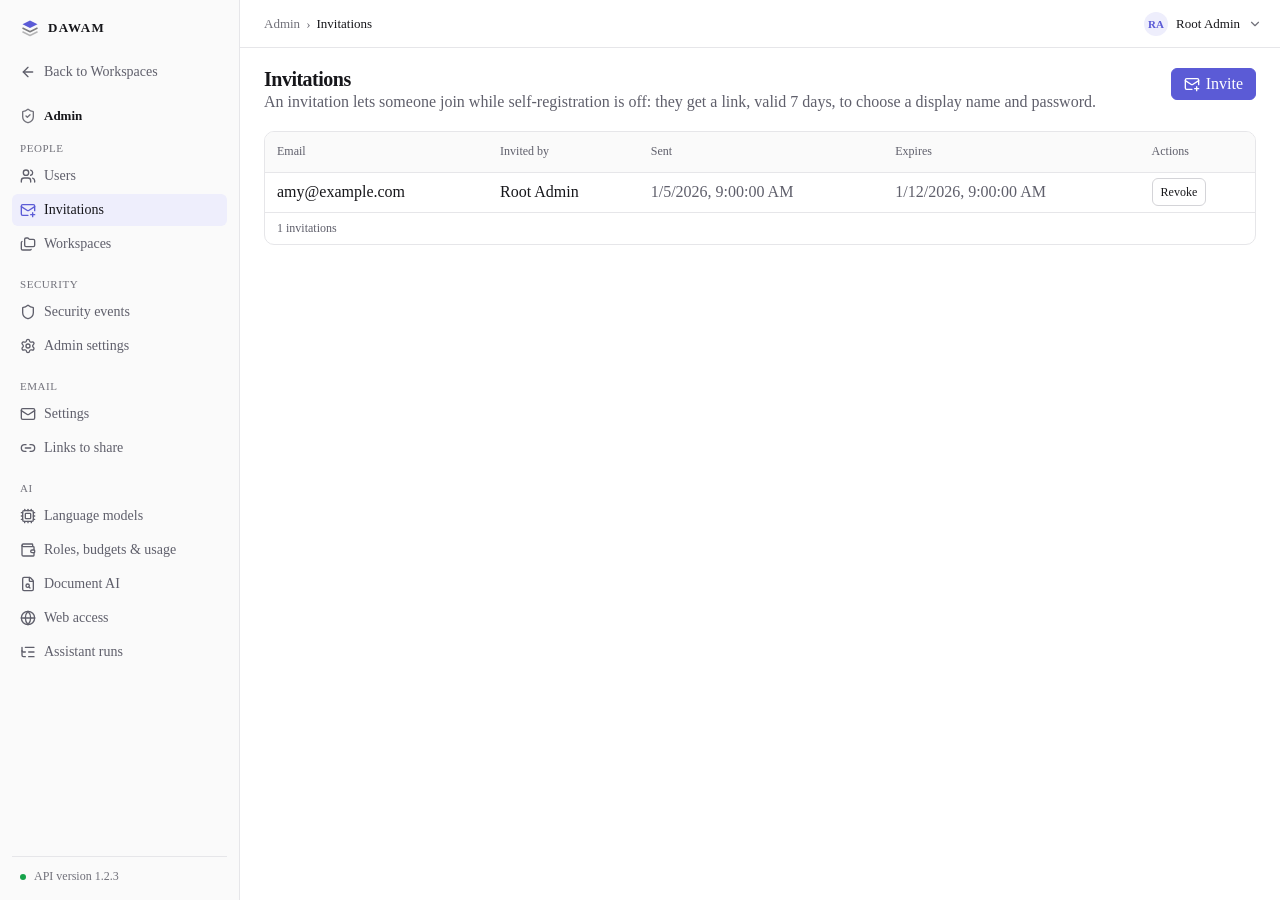
Scenario: revoking an invitation › revokes it and drops it from the list
Click the button "Revoke" at (1179, 192), box [1152,178,1206,206]
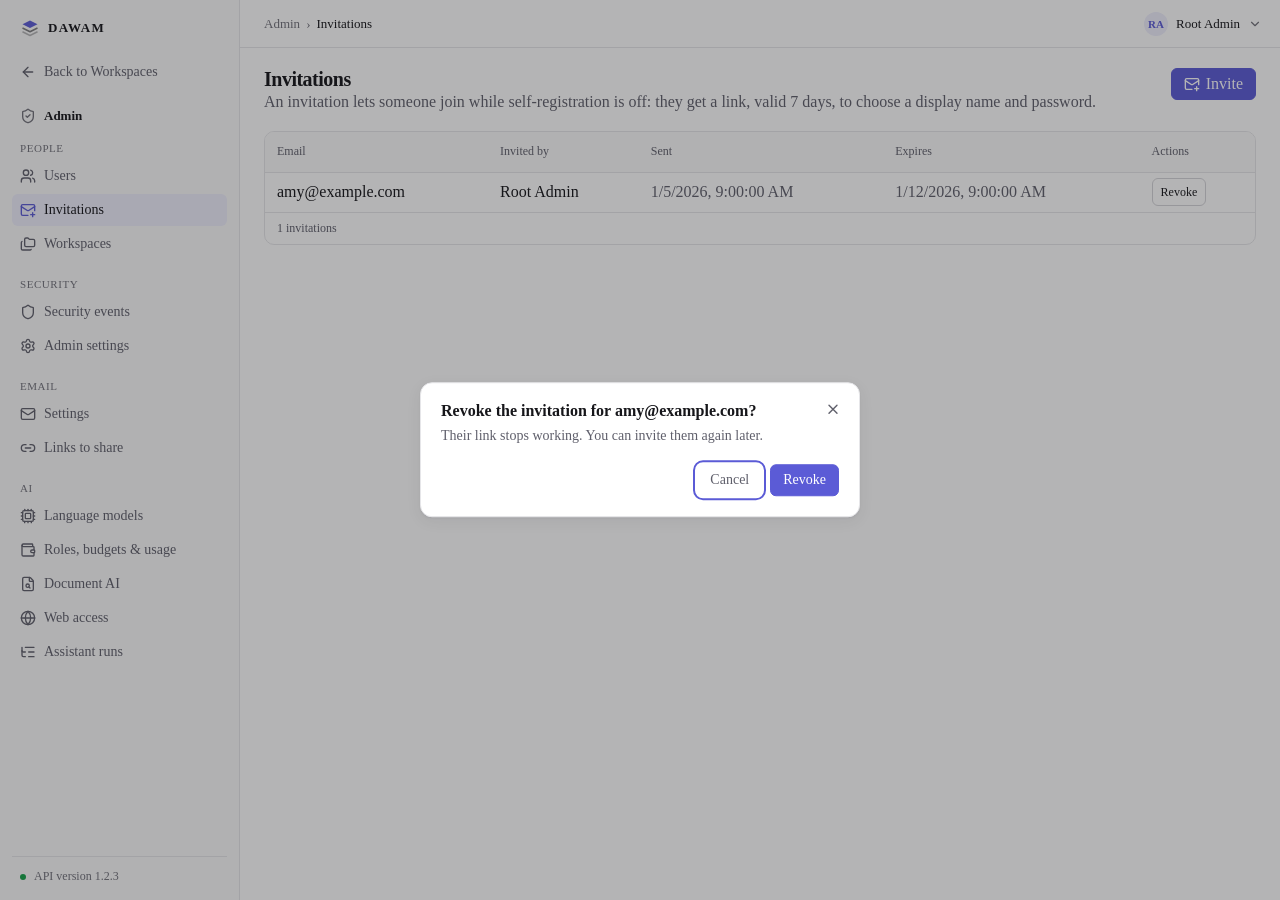
Click the button "Revoke" at (805, 481), box [770,465,839,497]
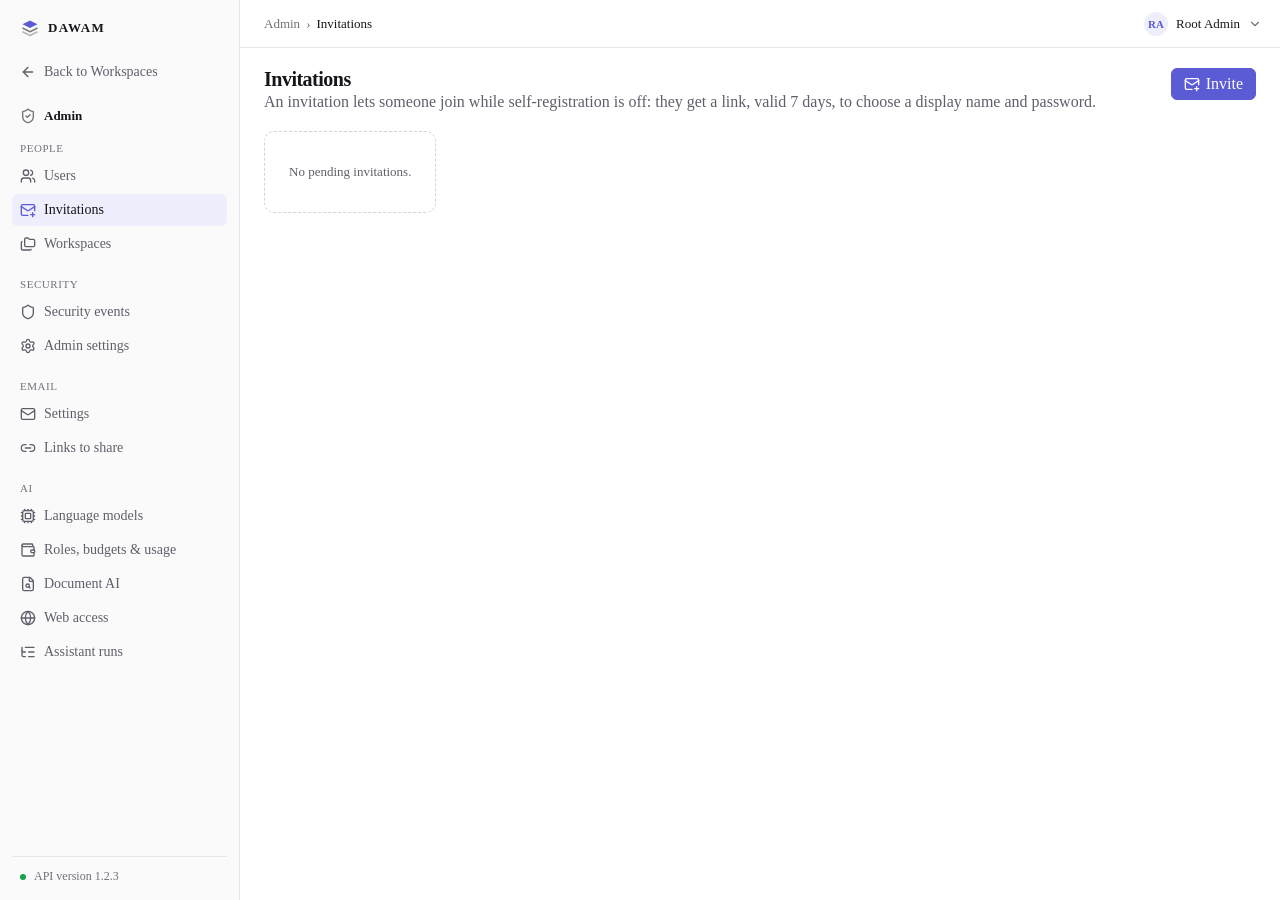
expect the text "No pending invitations." is shown: met, box [289,164,411,180]
